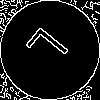L: (25, 25, 78, 75)
